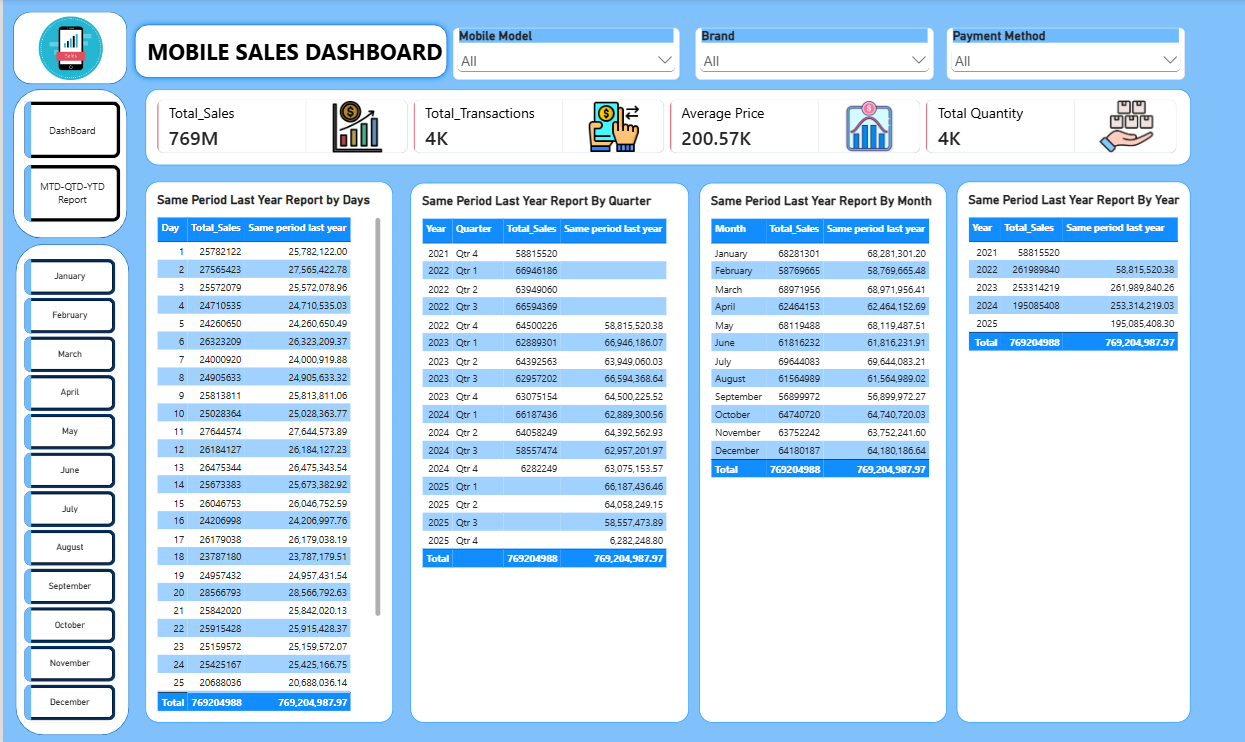

This screenshot's page, from the dashboard's own definition file:
{"tool":"powerbi","page":{"name":"Same Period Last Year Report","canvas":[1920,1080],"ordinal":1},"visuals":[{"type":"shape","box":[14.6,18.5,165.4,105.4],"z":0},{"type":"image","box":[24.6,25.4,145.4,92.3],"z":1000},{"type":"shape","box":[18.1,354.7,164.7,711.2],"z":2000},{"type":"shape","box":[14.6,130,165.4,216.2],"z":3000},{"type":"advancedSlicerVisual","fields":{"Values":["Custom_Calender.Date.Variation.Date Hierarchy.Month"]},"box":[30.8,376.4,132.1,671.4],"z":4000},{"type":"cardVisual","fields":{"Data":["MoblieSales_Data.Total_Sales","MoblieSales_Data.Total_Transactions","MoblieSales_Data.Average Price","MoblieSales_Data.Total Quantity"]},"box":[206.7,130,1513.3,110],"z":5000},{"type":"slicer","fields":{"Values":["MoblieSales_Data.Mobile Model"]},"box":[651.7,41.7,328.3,75],"z":6000},{"type":"slicer","fields":{"Values":["MoblieSales_Data.Brand"]},"box":[1001.7,41.7,345,75],"z":7000},{"type":"slicer","fields":{"Values":["MoblieSales_Data.Payment Method"]},"box":[1366.7,41.7,345,75],"z":8000},{"type":"shape","box":[183.3,28.3,468.3,93.3],"z":9000},{"type":"textbox","box":[195,55,456.7,61.7],"z":10000},{"type":"tableEx","title":"Same Period Last Year Report By Quarter","fields":{"Values":["Custom_Calender.Date.Variation.Date Hierarchy.Year","Custom_Calender.Date.Variation.Date Hierarchy.Quarter","MoblieSales_Data.Total_Sales","MoblieSales_Data.Same period last year"]},"box":[589.9,266,403.6,781.8],"z":11000},{"type":"tableEx","title":"Same Period Last  Year Report by Days","fields":{"Values":["Custom_Calender.Date.Variation.Date Hierarchy.Day","MoblieSales_Data.Total_Sales","MoblieSales_Data.Same period last year"]},"box":[206.3,264.2,358.3,783.6],"z":12000},{"type":"tableEx","title":"Same Period Last Year Report By Month","fields":{"Values":["Custom_Calender.Date.Variation.Date Hierarchy.Month","MoblieSales_Data.Total_Sales","MoblieSales_Data.Same period last year"]},"box":[1008,266,358.3,781.8],"z":13000},{"type":"tableEx","title":"Same Period Last Year Report By Year","fields":{"Values":["Custom_Calender.Date.Variation.Date Hierarchy.Year","MoblieSales_Data.Total_Sales","MoblieSales_Data.Same period last year"]},"box":[1380.8,264.2,338.4,783.6],"z":14000},{"type":"pageNavigator","box":[30.8,148.4,139.3,175.5],"z":15000}]}

Visuals, with their boxes on the page's 1920x1080 design canvas (x1, y1, x2, y2). These are canvas units, not pixel positions in the 1245x742 screenshot, which may show the page scaled, cropped or inside an application window:
shape: 15/18/180/124
image: 25/25/170/118
shape: 18/355/183/1066
shape: 15/130/180/346
advancedSlicerVisual - Custom_Calender.Date.Variation.Date Hierarchy.Month: 31/376/163/1048
cardVisual - MoblieSales_Data.Total_Sales x MoblieSales_Data.Total_Transactions: 207/130/1720/240
slicer - MoblieSales_Data.Mobile Model: 652/42/980/117
slicer - MoblieSales_Data.Brand: 1002/42/1347/117
slicer - MoblieSales_Data.Payment Method: 1367/42/1712/117
shape: 183/28/652/122
textbox: 195/55/652/117
"Same Period Last Year Report By Quarter" tableEx: 590/266/994/1048
"Same Period Last  Year Report by Days" tableEx: 206/264/565/1048
"Same Period Last Year Report By Month" tableEx: 1008/266/1366/1048
"Same Period Last Year Report By Year" tableEx: 1381/264/1719/1048
pageNavigator: 31/148/170/324
